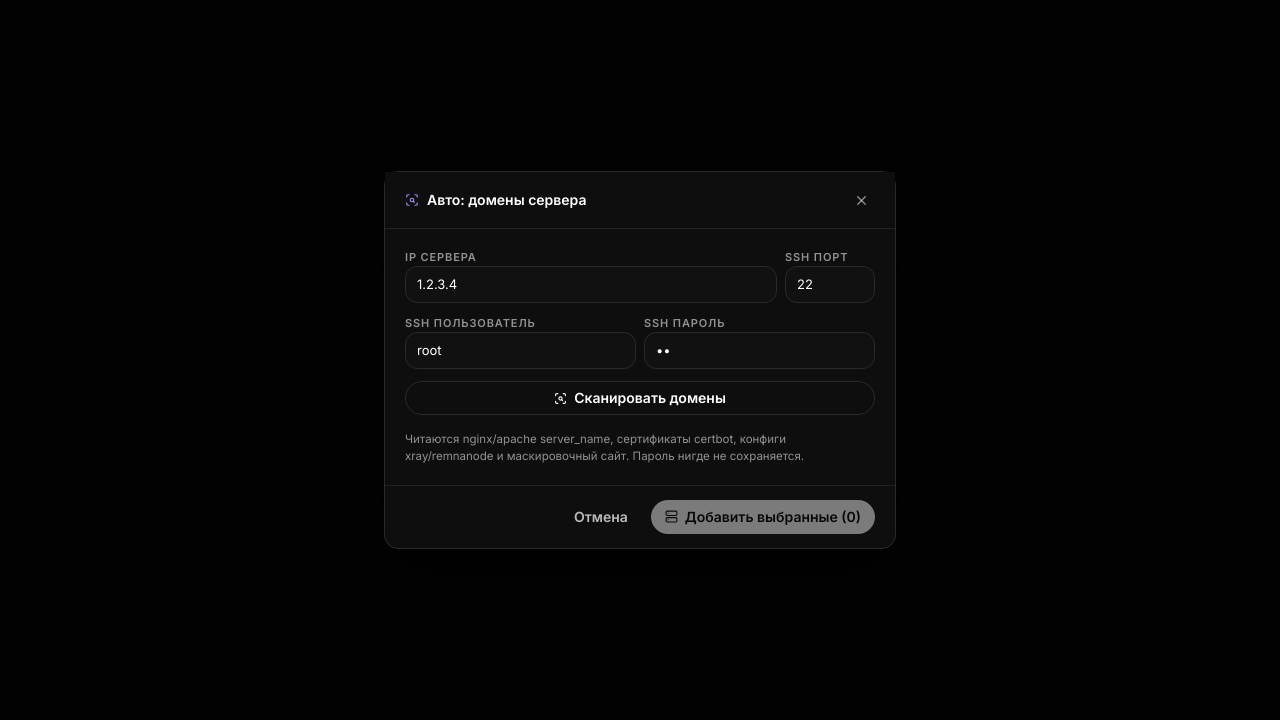
Test: ScanDomainsModal › ошибка сканирования показывается
Click the button "Сканировать домены" at (640, 398), box [405,381,875,415]
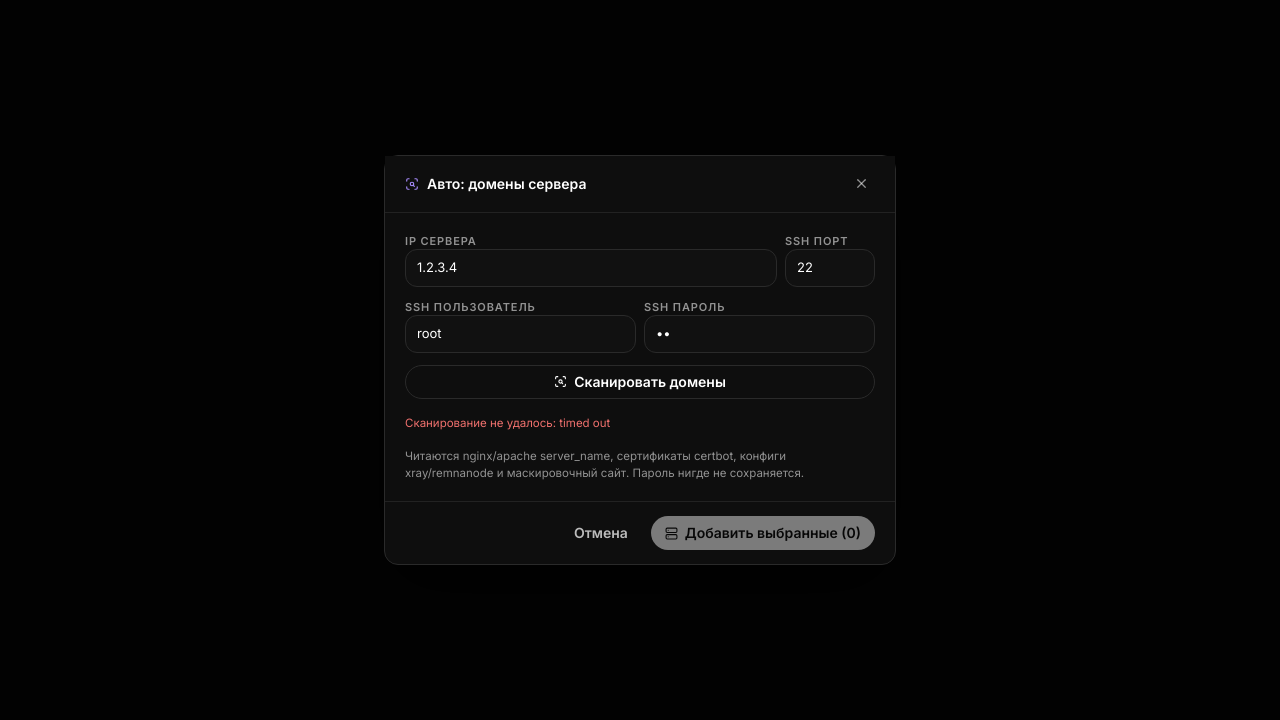
Expected: the text "Сканирование не удалось: timed out" is shown, [405,416,610,430]
